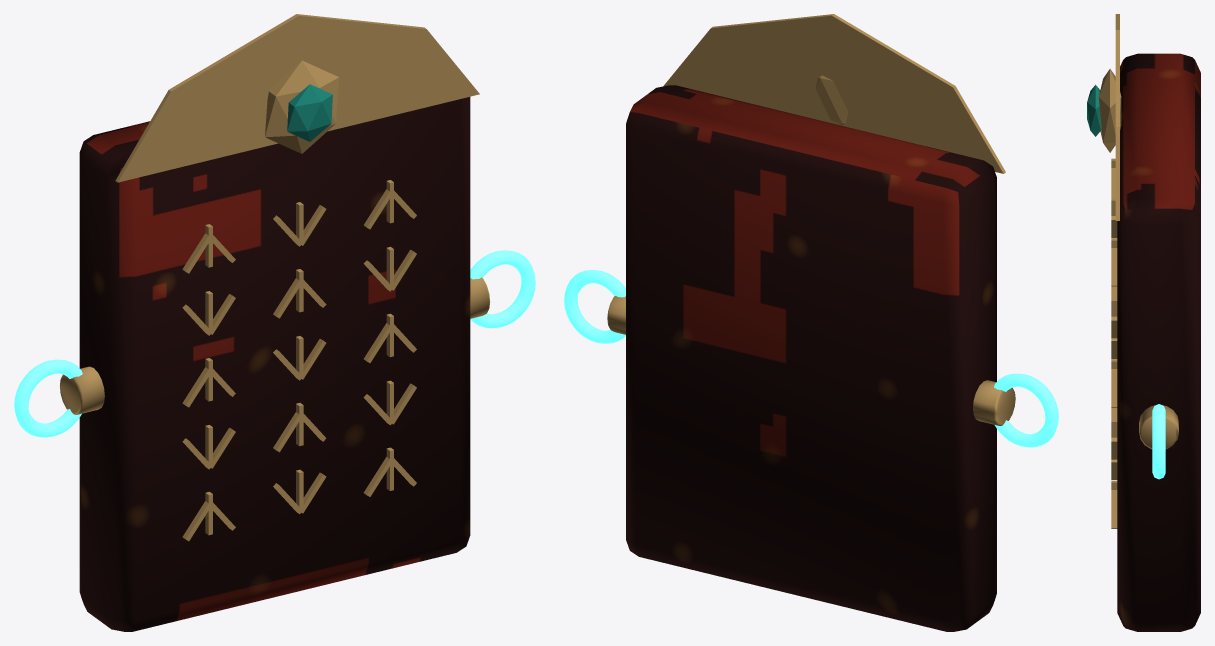
Rendered from inscribed_stele_pattern_cinnabar.fbx.
3 renders of one model, left to right at view 1: azimuth 30°, elevation 25°; view 2: azimuth 150°, elevation 25°; view 3: azimuth 270°, elevation 25°, orthographic. The views are drawn at different scales.
Parts seen in each view (by area): view 1: Reviewed_inscribed_stele_Body.005, TH10_Stele_Handle.016, TH10_Stele_Handle.017; view 2: Reviewed_inscribed_stele_Body.005, TH10_Stele_Handle.016, TH10_Stele_Handle.017; view 3: Reviewed_inscribed_stele_Body.005, TH10_Stele_Handle.017.
Part boxes in pixels (x1=…): Reviewed_inscribed_stele_Body.005: x1=60, y1=14, x2=490, y2=631; TH10_Stele_Handle.016: x1=14, y1=359, x2=82, y2=437; TH10_Stele_Handle.017: x1=470, y1=250, x2=535, y2=328; Reviewed_inscribed_stele_Body.005: x1=607, y1=14, x2=1015, y2=631; TH10_Stele_Handle.016: x1=994, y1=373, x2=1058, y2=447; TH10_Stele_Handle.017: x1=564, y1=270, x2=625, y2=343; Reviewed_inscribed_stele_Body.005: x1=1087, y1=14, x2=1200, y2=631; TH10_Stele_Handle.017: x1=1152, y1=404, x2=1165, y2=479.
Bounding box in the file's own units: 0.488 × 0.525 × 0.1022.
4 materials, 1 textured.
